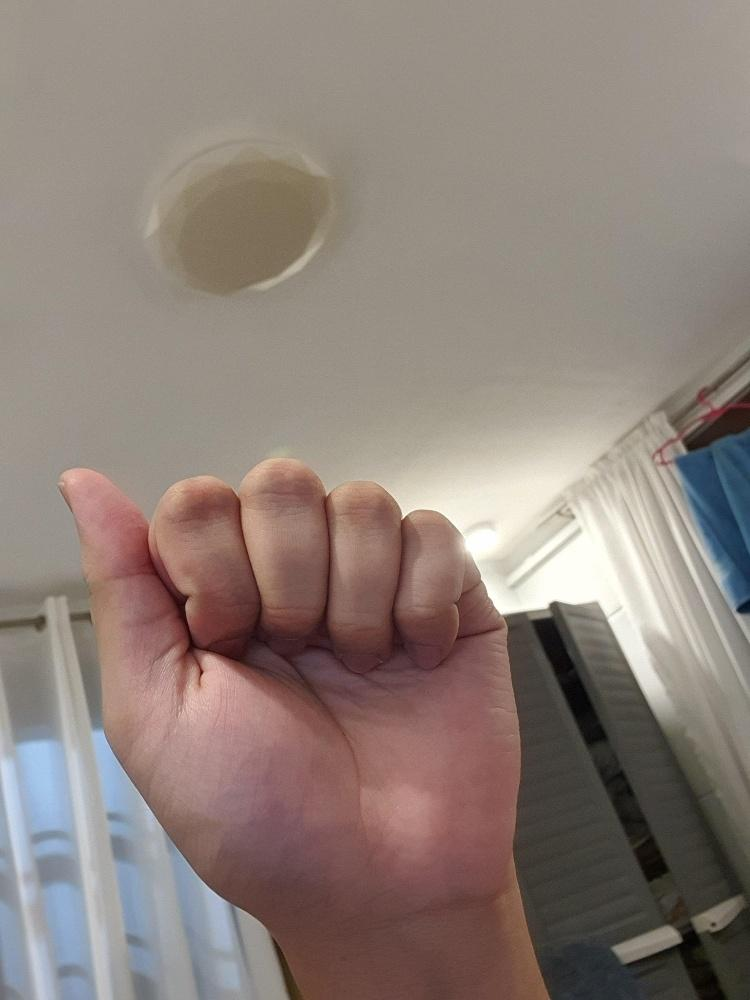a: (50, 449, 525, 933)
